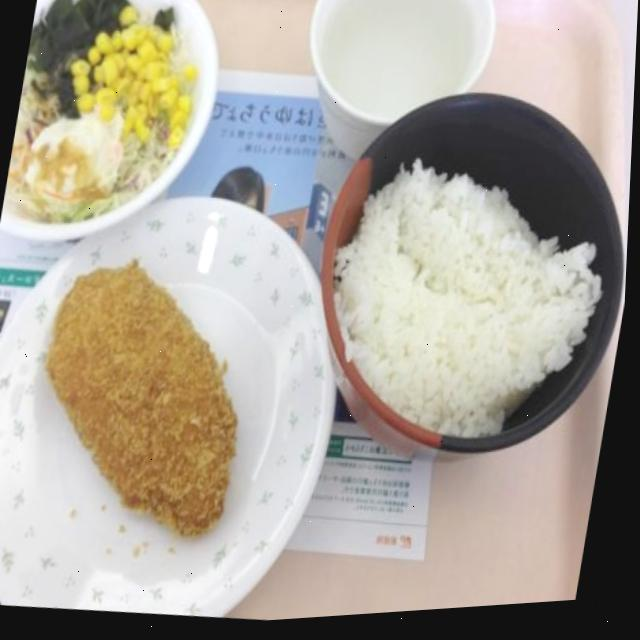米饭主食: (298, 81, 636, 483)
蔬菜料理: (0, 0, 235, 256)
